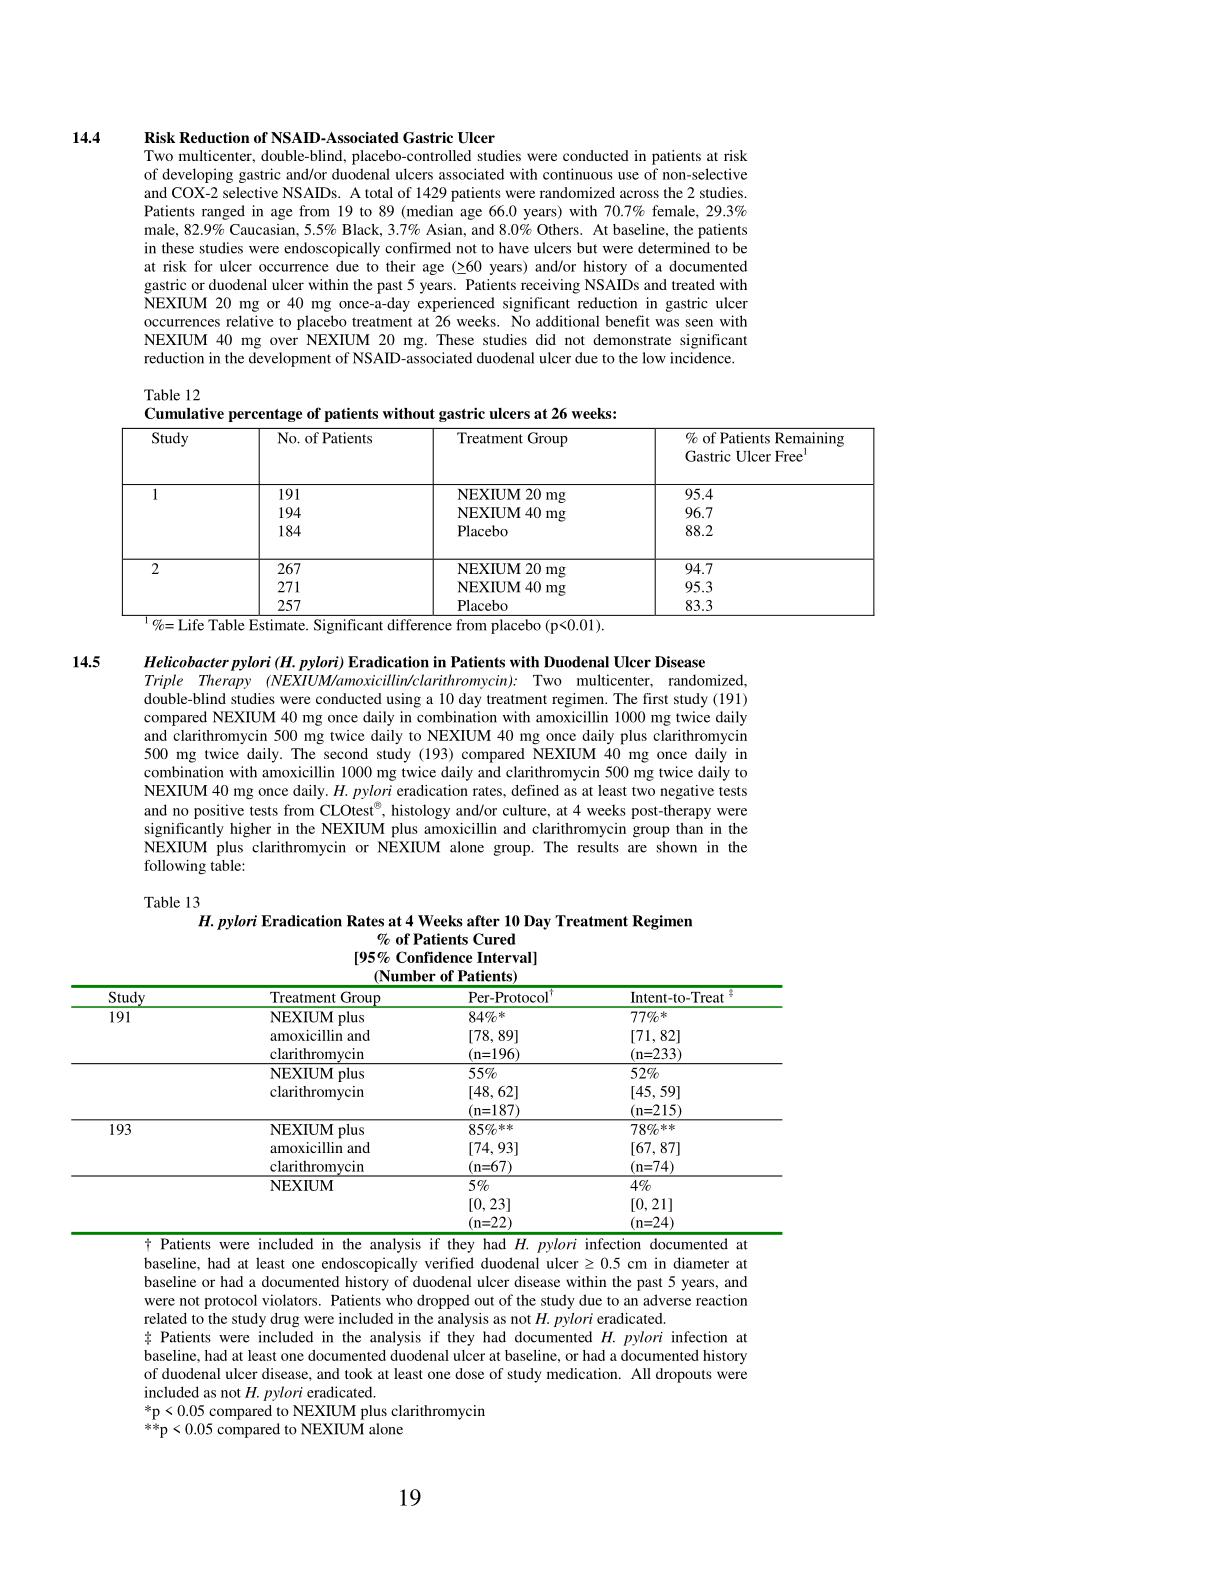full_lined: (120, 427, 876, 618)
partial_lined: (69, 985, 783, 1236)
